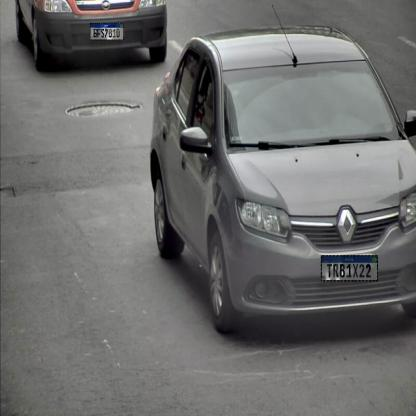PlacaM: (321, 255, 378, 282), (90, 23, 124, 40)
